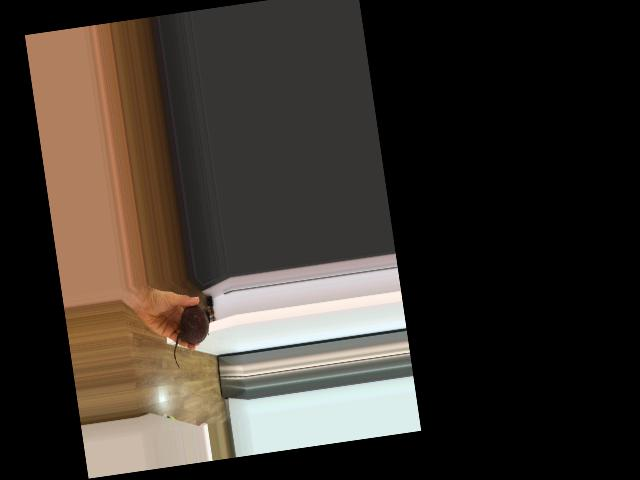beet: (167, 303, 216, 369)
